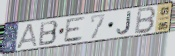7: (89, 13, 106, 41)
A: (16, 22, 39, 50)
B: (133, 5, 157, 35), (38, 20, 60, 47)
E: (63, 15, 87, 44)
J: (116, 10, 133, 35)
